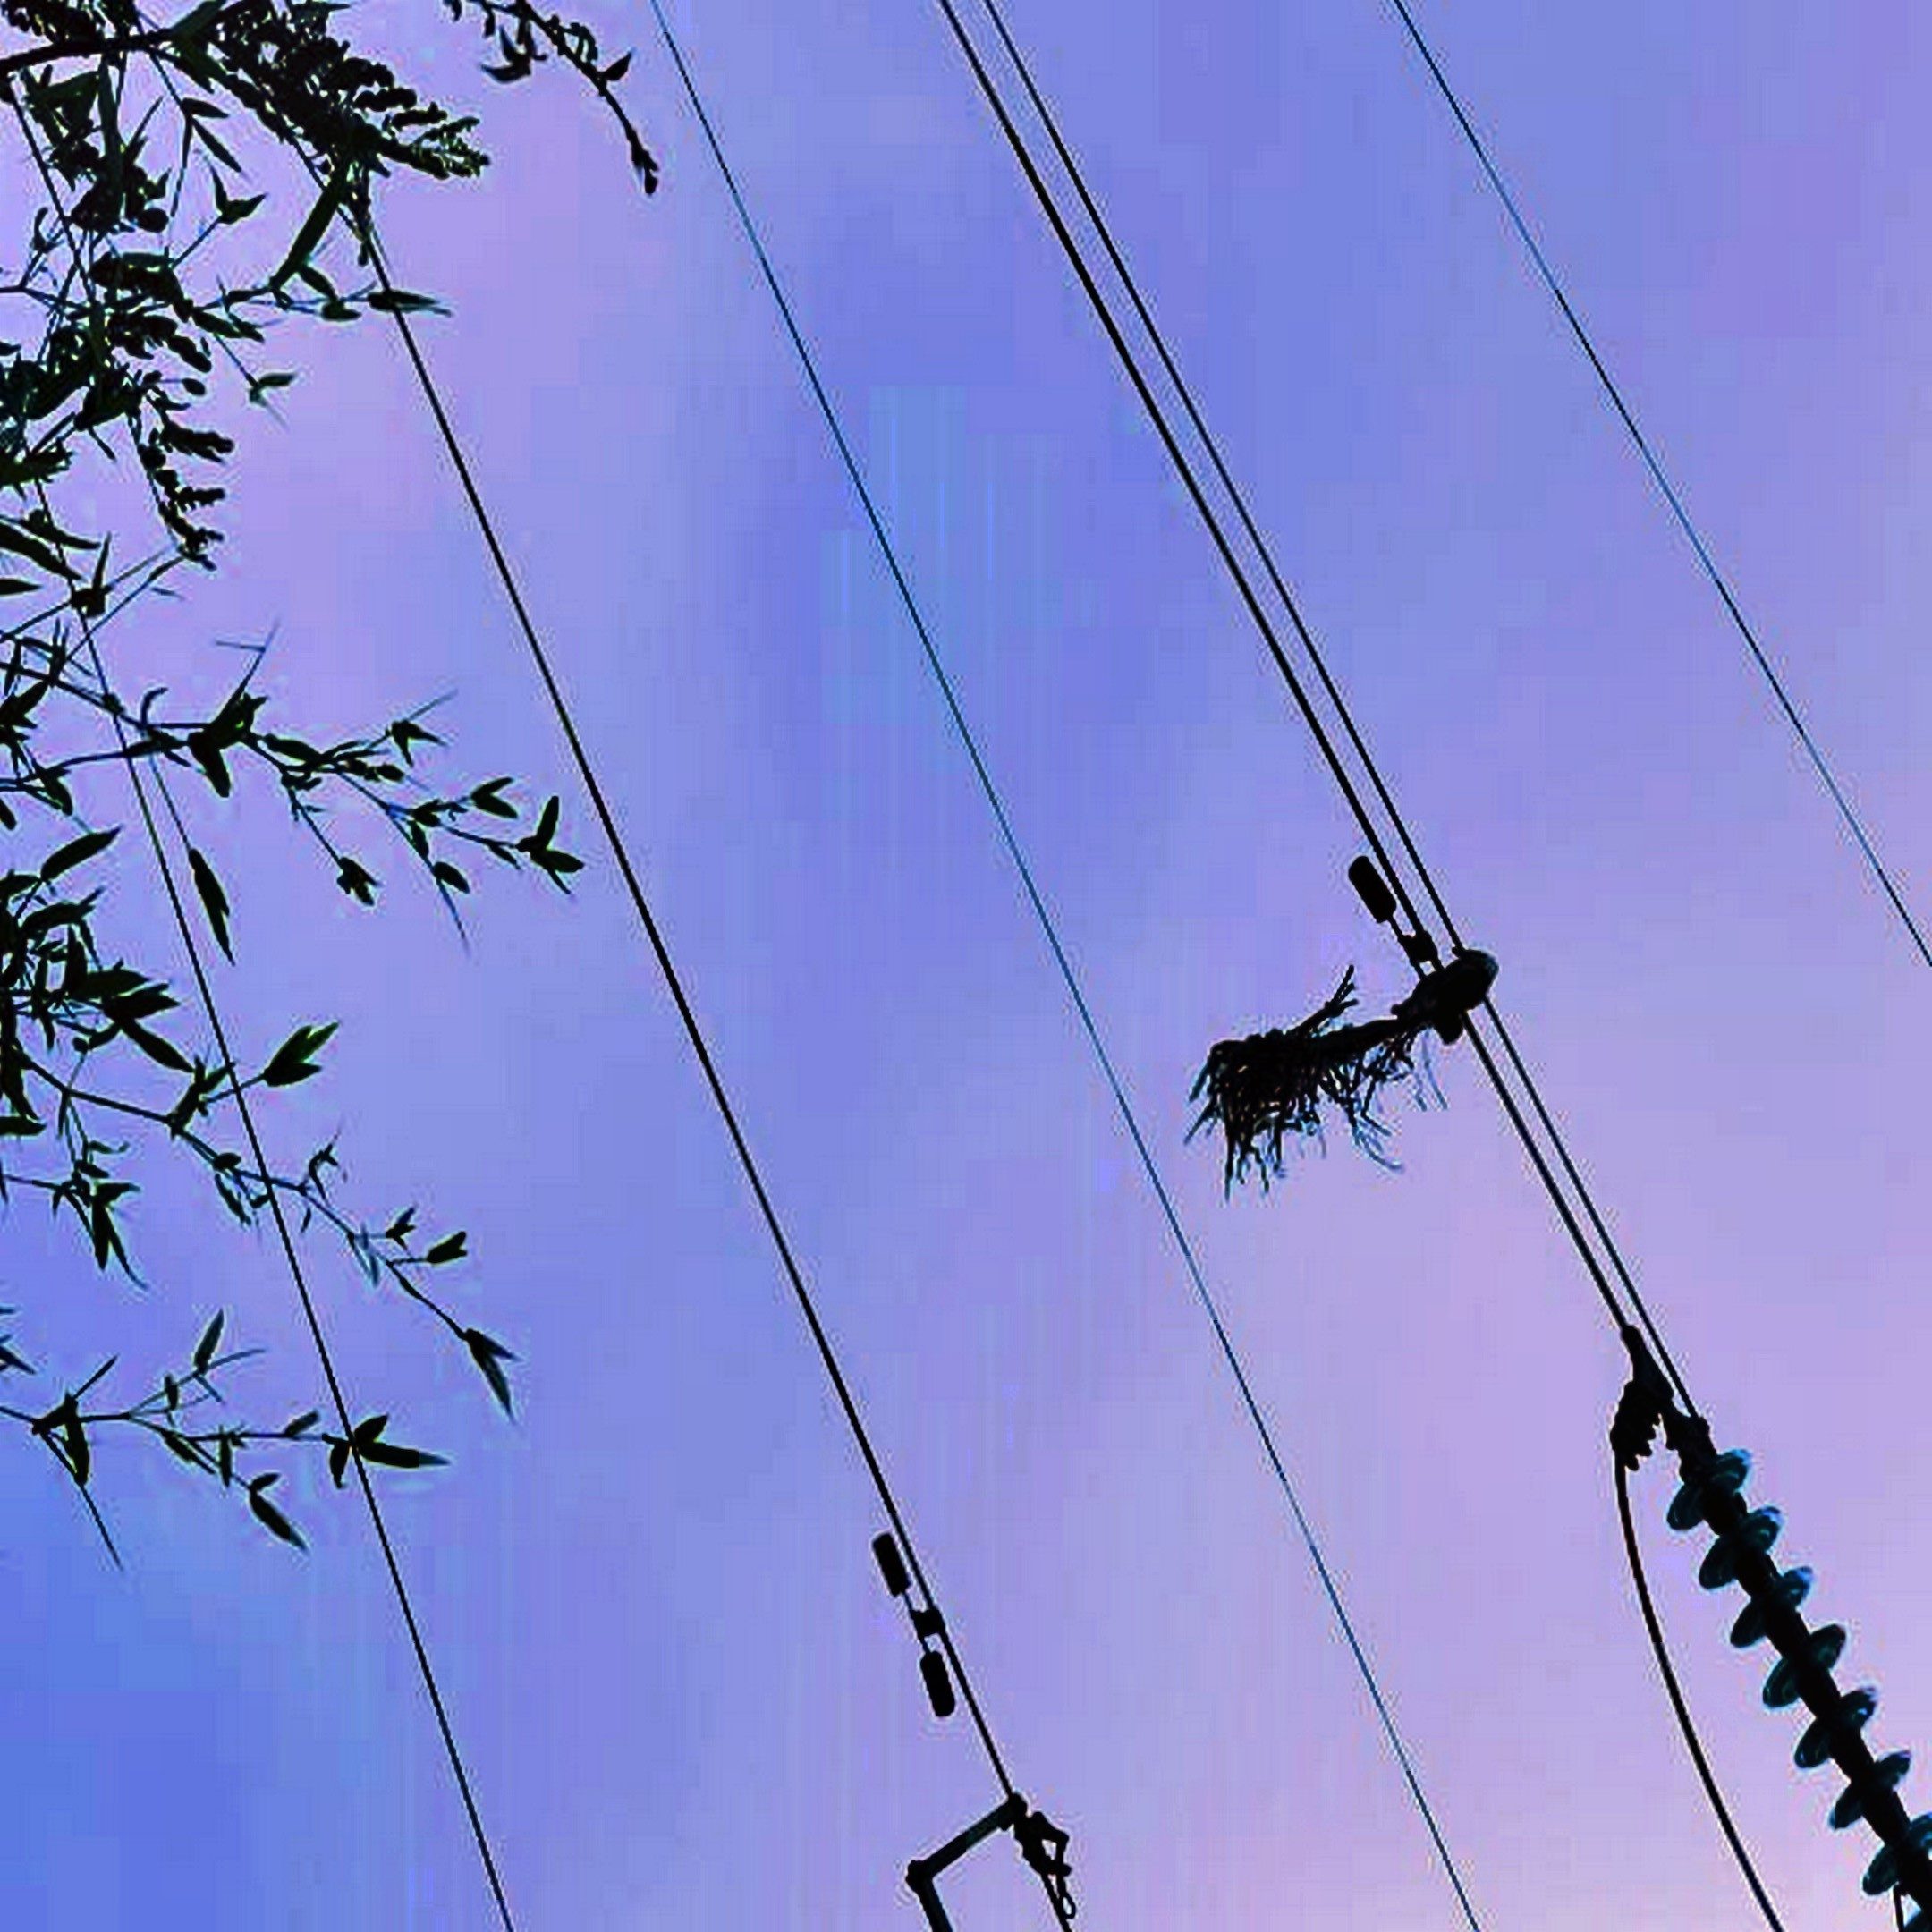wire foreign body: (1171, 925, 1516, 1185)
